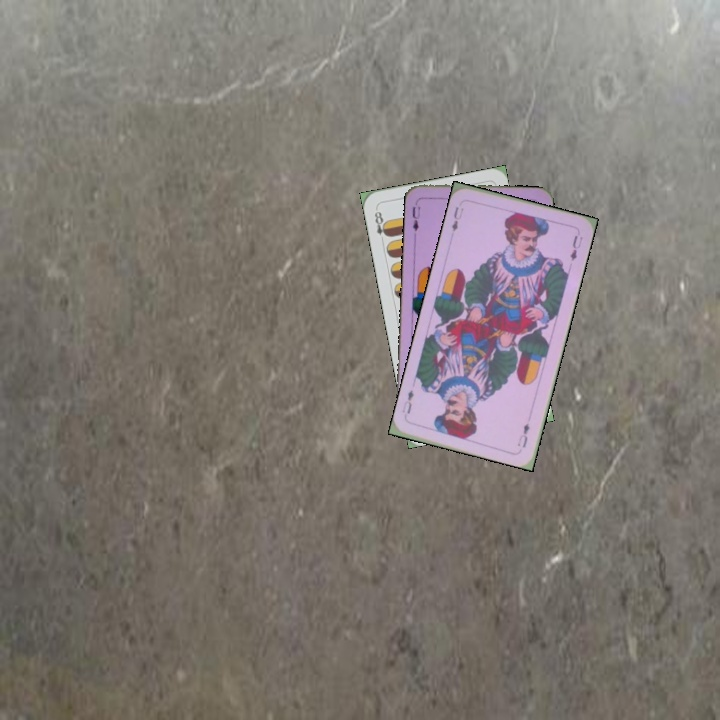E8: (371, 205, 391, 245)
EU: (447, 203, 466, 234), (513, 419, 532, 450), (408, 196, 423, 234)
